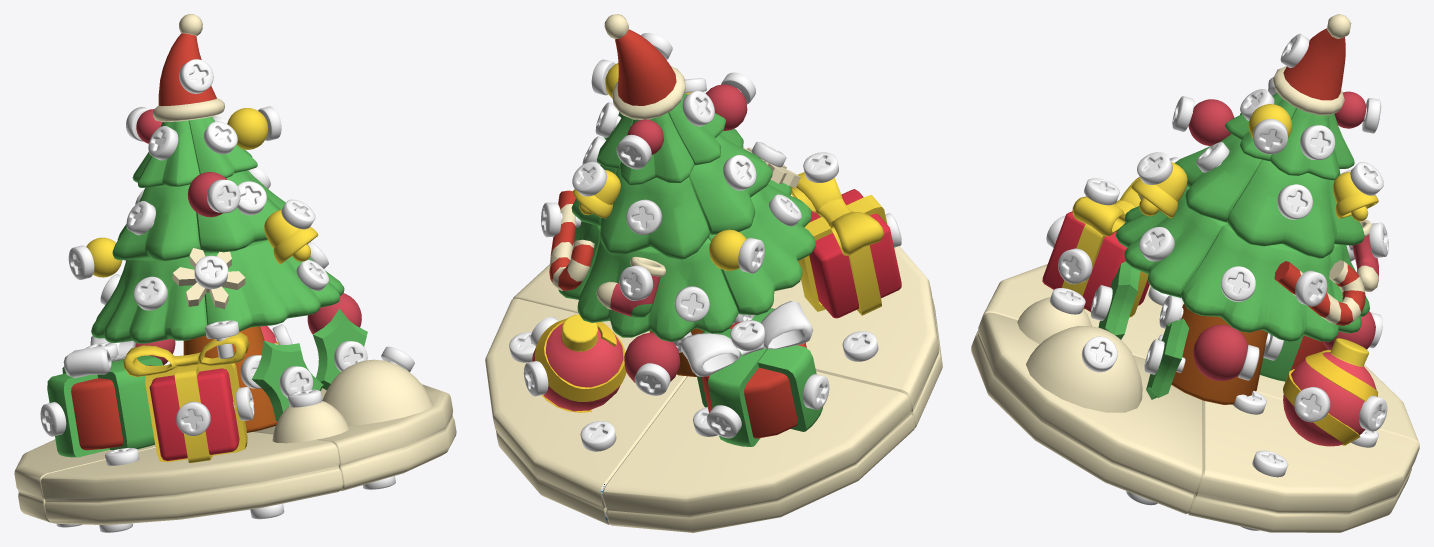
File: ChristmasTree.fbx
3 views of the same model, side by side, from view 1: azimuth 30°, elevation 25°; view 2: azimuth 150°, elevation 25°; view 3: azimuth 270°, elevation 25° (orthographic). The views are drawn at different scales.
Visible parts, largest first — view 1: ChristmasTree.004, Screw (×18), ChristmasTree.030, ChristmasTree.025, ChristmasTree.015, ChristmasTree.006, ChristmasTree.005, ChristmasTree.017, ChristmasTree.033, ChristmasTree.022, ChristmasTree.007, ChristmasTree.021 (+15 smaller); view 2: ChristmasTree.021, Screw (×21), ChristmasTree.020, ChristmasTree.004, ChristmasTree.030, ChristmasTree.028, ChristmasTree.025, ChristmasTree.012, ChristmasTree.005, ChristmasTree.035, ChristmasTree.022, ChristmasTree.033 (+14 smaller); view 3: ChristmasTree.020, Screw (×25), ChristmasTree.015, ChristmasTree.038, ChristmasTree.017, ChristmasTree.036, ChristmasTree.012, ChristmasTree.006, ChristmasTree.022, ChristmasTree.025, ChristmasTree.004, ChristmasTree.007 (+21 smaller).
Part boxes in pixels (left/top/right/bottom): ChristmasTree.004: left=41, top=432, right=343, bottom=525; Screw (×18): left=40, top=59, right=367, bottom=436; ChristmasTree.030: left=47, top=355, right=162, bottom=457; ChristmasTree.025: left=145, top=363, right=247, bottom=463; ChristmasTree.015: left=253, top=384, right=456, bottom=491; ChristmasTree.006: left=204, top=240, right=340, bottom=331; ChristmasTree.005: left=91, top=256, right=207, bottom=343; ChristmasTree.017: left=322, top=359, right=432, bottom=425; ChristmasTree.033: left=112, top=184, right=200, bottom=260; ChristmasTree.022: left=152, top=14, right=224, bottom=122; ChristmasTree.007: left=196, top=171, right=280, bottom=253; ChristmasTree.021: left=14, top=439, right=155, bottom=523; ChristmasTree.021: left=602, top=371, right=915, bottom=532; Screw (×21): left=509, top=72, right=878, bottom=451; ChristmasTree.020: left=485, top=298, right=686, bottom=524; ChristmasTree.004: left=771, top=246, right=942, bottom=427; ChristmasTree.030: left=696, top=308, right=823, bottom=446; ChristmasTree.028: left=577, top=238, right=738, bottom=341; ChristmasTree.025: left=798, top=189, right=901, bottom=318; ChristmasTree.012: left=532, top=314, right=626, bottom=412; ChristmasTree.005: left=708, top=184, right=815, bottom=315; ChristmasTree.035: left=600, top=168, right=709, bottom=259; ChristmasTree.022: left=604, top=14, right=685, bottom=119; ChristmasTree.033: left=689, top=134, right=772, bottom=234; ChristmasTree.020: left=1187, top=393, right=1419, bottom=532; Screw (×25): left=1049, top=33, right=1388, bottom=477; ChristmasTree.015: left=971, top=312, right=1202, bottom=513; ChristmasTree.038: left=1181, top=224, right=1338, bottom=341; ChristmasTree.017: left=1026, top=326, right=1142, bottom=412; ChristmasTree.036: left=1227, top=160, right=1335, bottom=258; ChristmasTree.012: left=1283, top=338, right=1377, bottom=446; ChristmasTree.006: left=1116, top=186, right=1227, bottom=297; ChristmasTree.022: left=1273, top=14, right=1351, bottom=115; ChristmasTree.025: left=1042, top=210, right=1149, bottom=317; ChristmasTree.004: left=971, top=264, right=1183, bottom=358; ChristmasTree.007: left=1175, top=134, right=1261, bottom=222.
Size of the model in its own units: 8.77 by 10.17 by 8.54.
3 materials, 1 textured.
